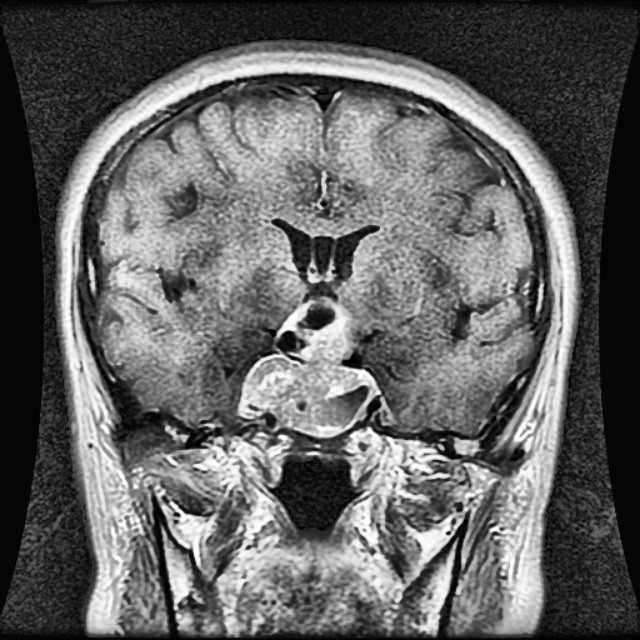Pituitary: (239, 297, 380, 435)
